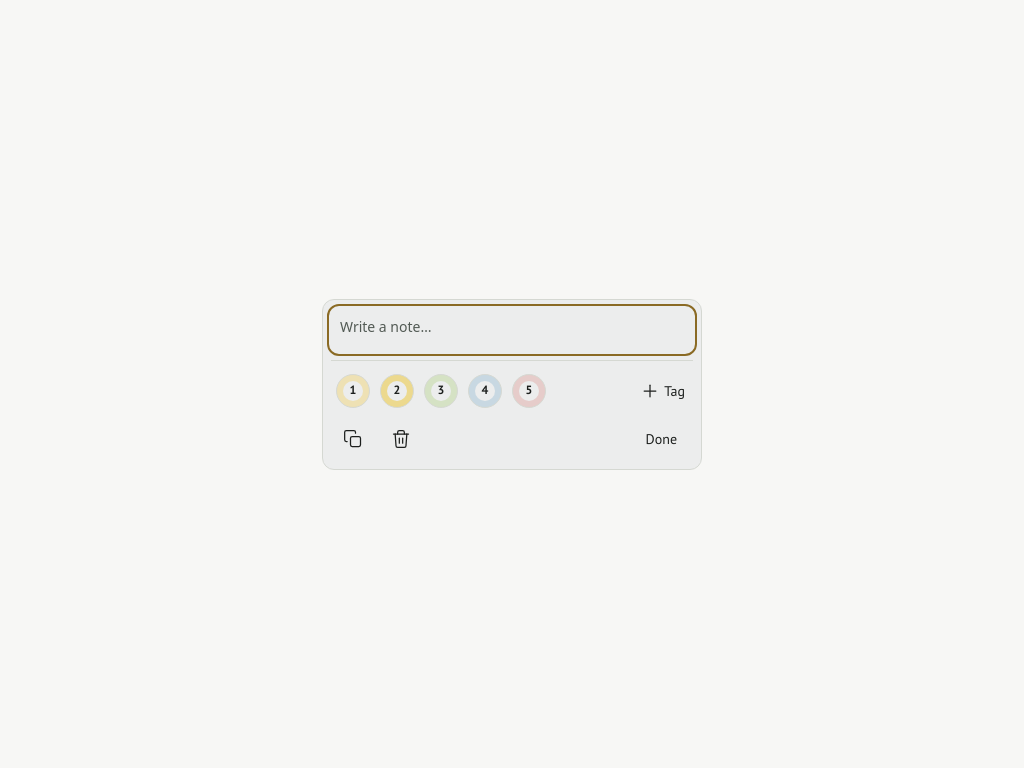
Scenario: NotePopover — guarded dismissal (issue #177) › a mid-typing failure surfaces the error + Retry; a successful Retry keeps the editor open
Type "still writing" into the text box labelled "note".
click(512, 330); type("still writing")  # box [331,308,693,352]
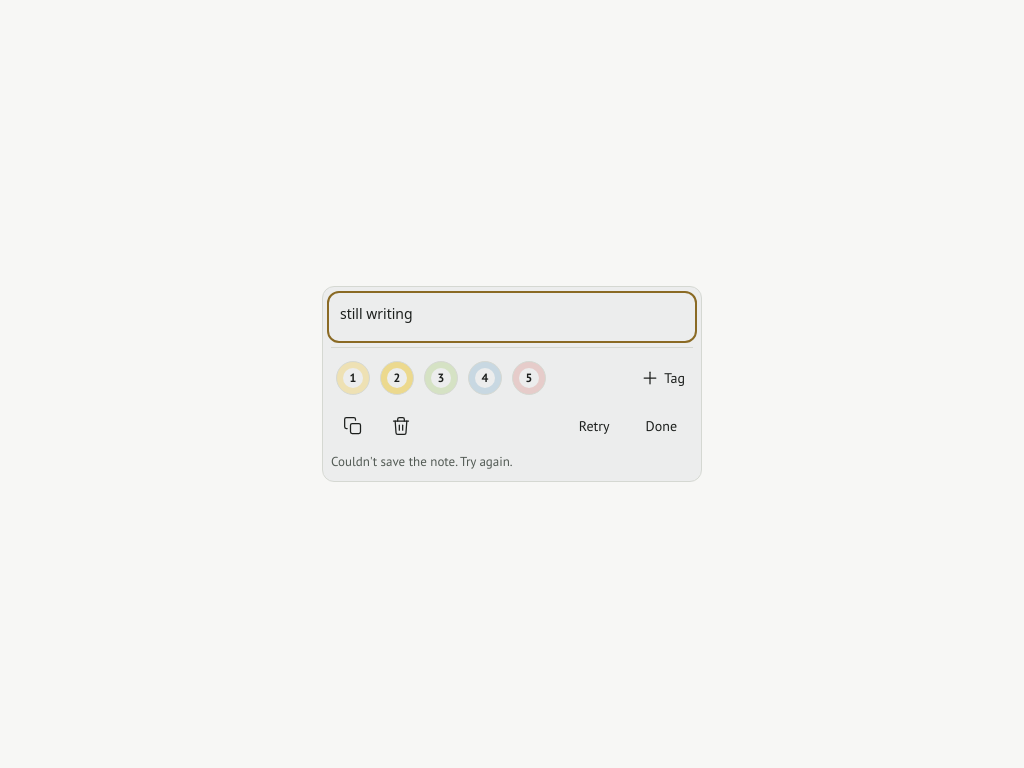
Expected: the text "Couldn't save the note. Try again." is shown, [331,453,513,470]
Click the button "Retry".
click(594, 426)  # box [563,404,626,448]
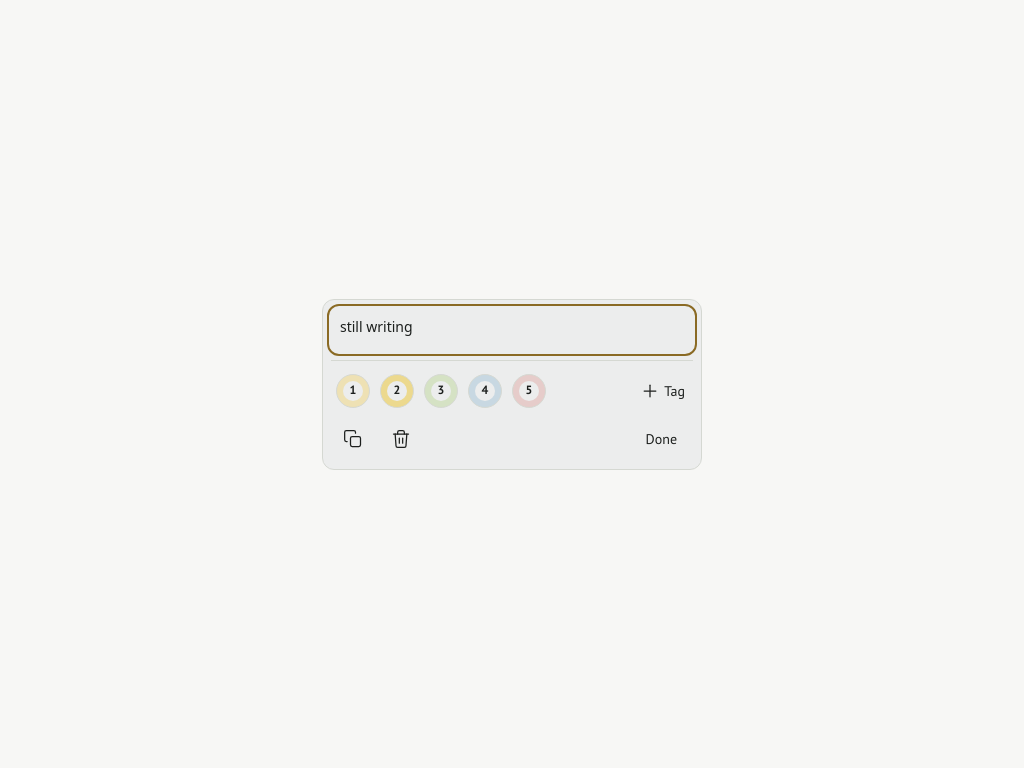
Expected: the text "Couldn't save the note. Try again." is gone
